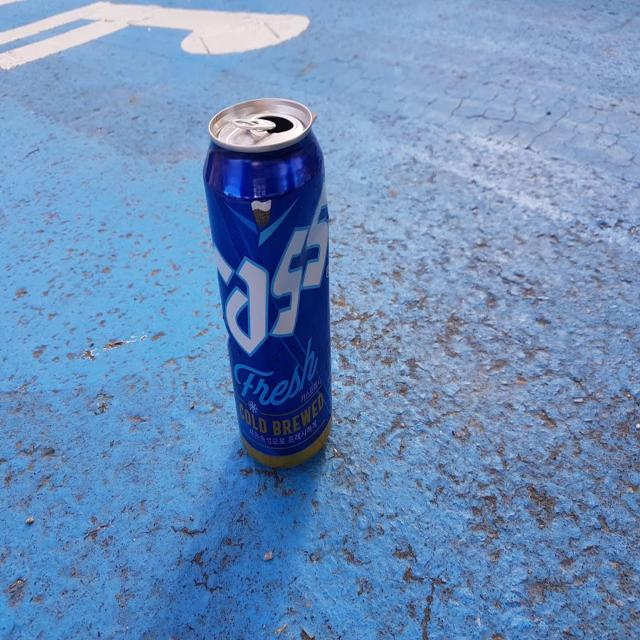can: (203, 97, 332, 467)
